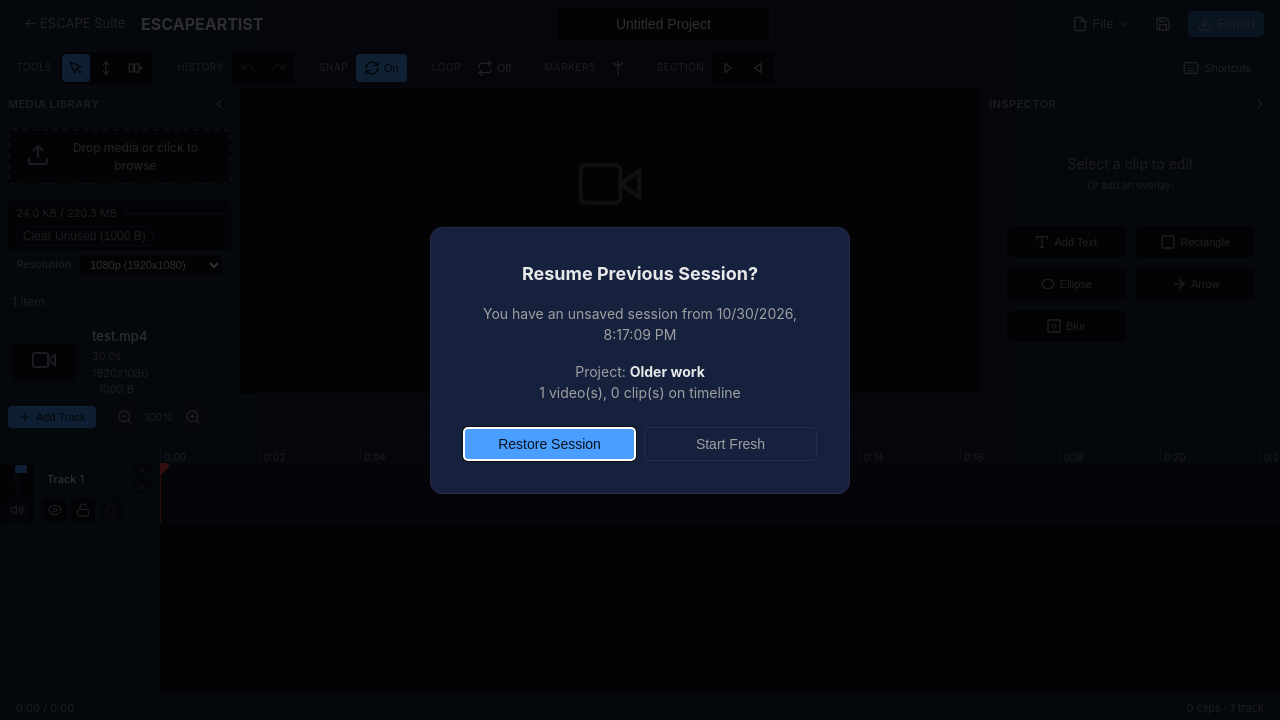
Scenario: one session slot per tab (ESCSUITE-274) › a Start Fresh that finds the slot saved again since keeps the newer save (ESCSUITE-289)
Check: the text "Older work" is shown, box [630,362,705,380]
Step 1. Click the button "Start Fresh" → (730, 444), box [644,426,817,460]
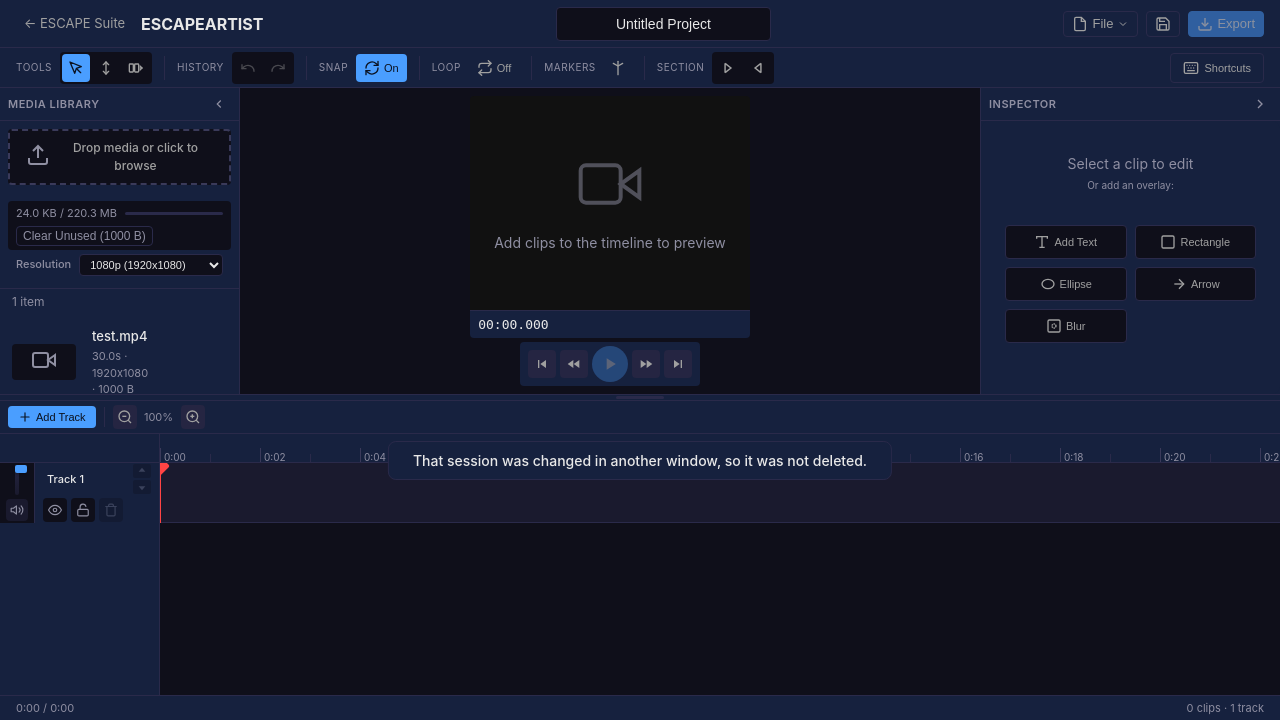
Check: the heading "Resume Previous Session?" is gone
